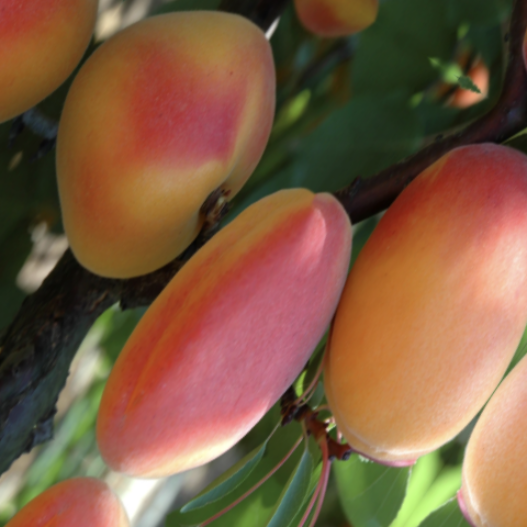mango: (50, 135, 410, 527), (0, 0, 353, 347), (250, 88, 527, 514)
